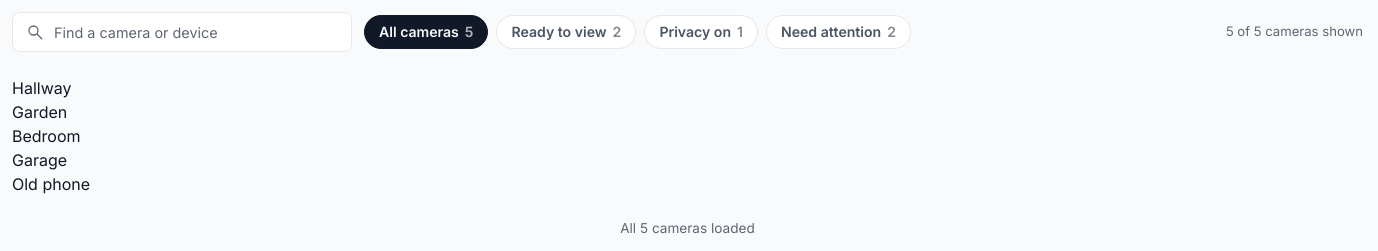
it: camera browsing › keeps unavailable cameras out of ready results even with stale streaming
Click the radio button labelled "Ready to view". click: (566, 32)
box: [496,15,636,49]
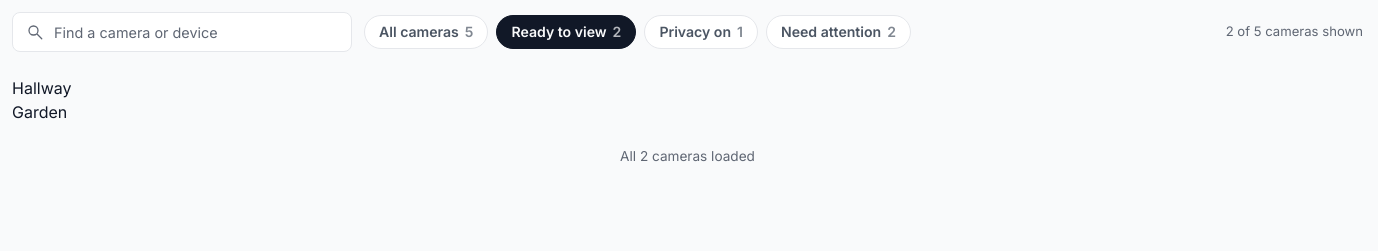
expect the list items read "Hallway", "Garden", in this order: met, box [12,78,72,98]; [12,102,67,122]
